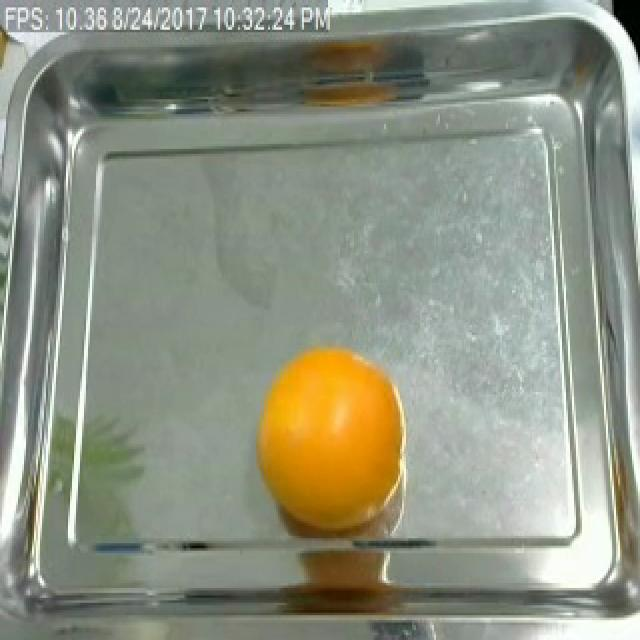Fruit: (250, 340, 410, 548), (0, 2, 18, 112)
